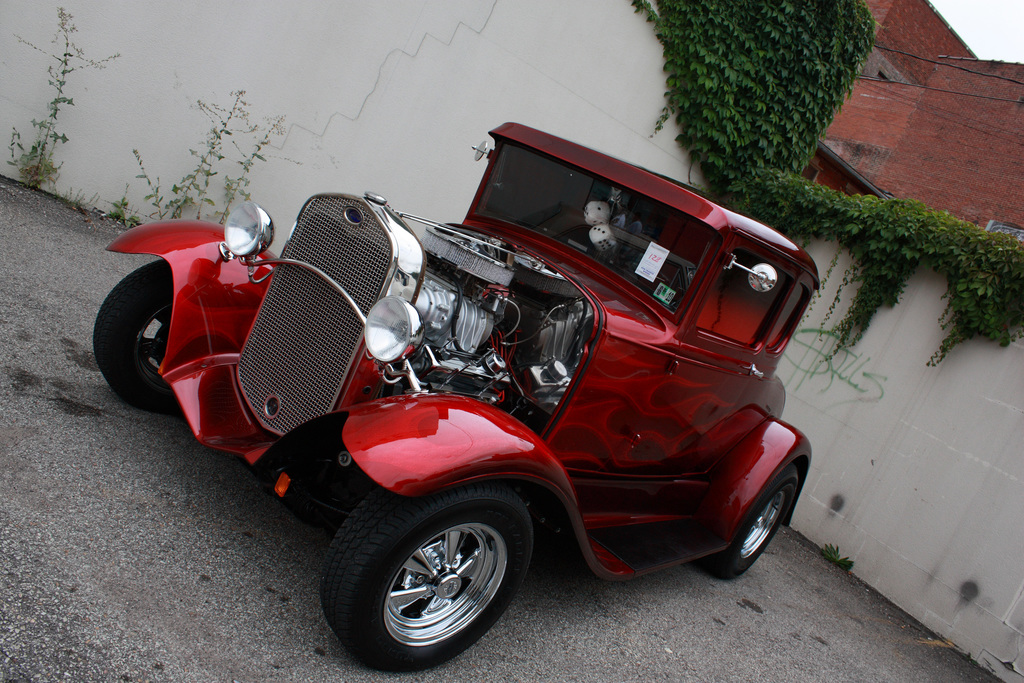Car: (92, 123, 822, 675)
